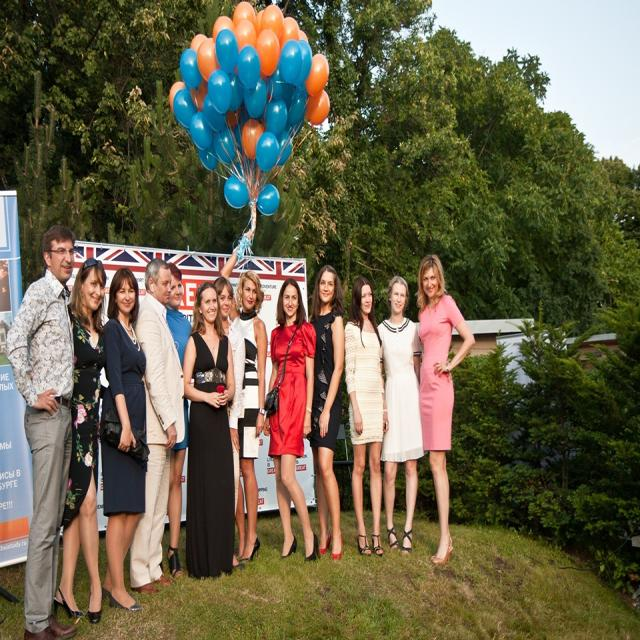body: (3, 220, 80, 639), (50, 254, 109, 628), (126, 254, 186, 598), (416, 251, 478, 569), (96, 265, 150, 614), (262, 274, 324, 566), (219, 226, 269, 566), (374, 271, 430, 563), (182, 280, 236, 579), (342, 273, 391, 560), (308, 261, 348, 564), (159, 259, 194, 583), (212, 275, 247, 570), (0, 255, 12, 317)
